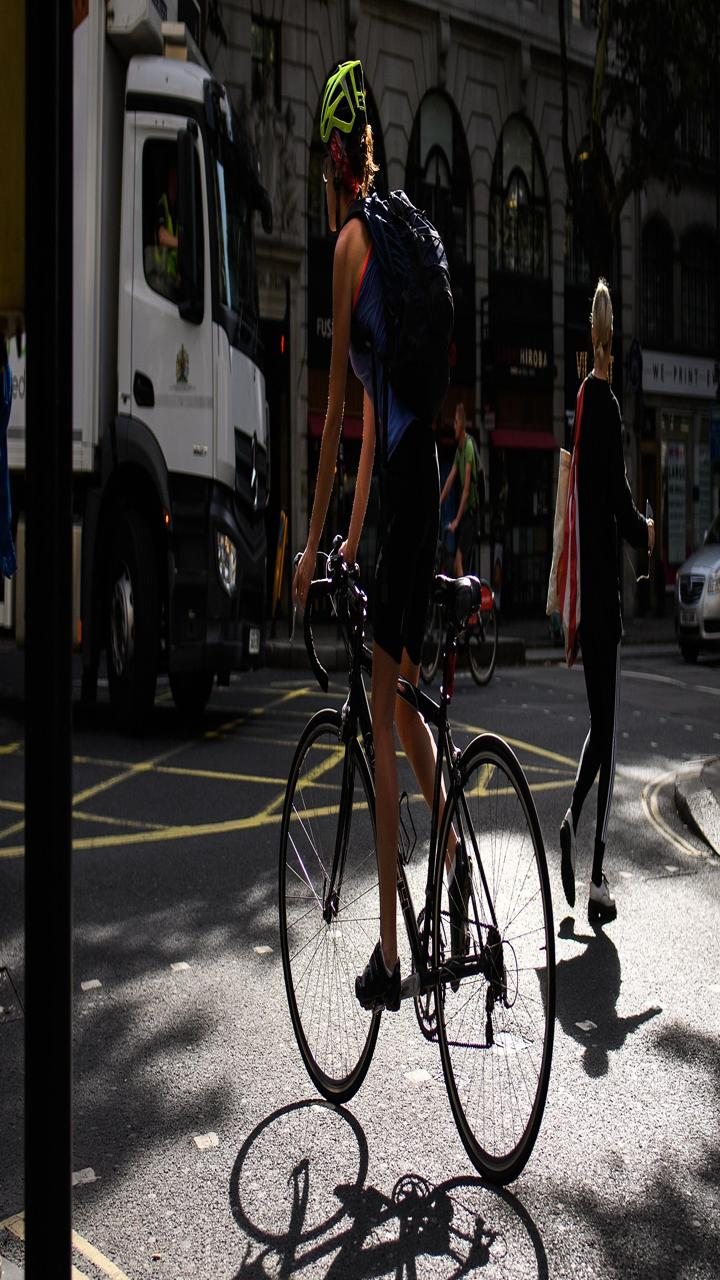bicycle: (263, 544, 584, 1180)
cyclist: (243, 37, 488, 992)
pedestrian: (534, 270, 678, 943)
truck: (3, 1, 254, 731)
